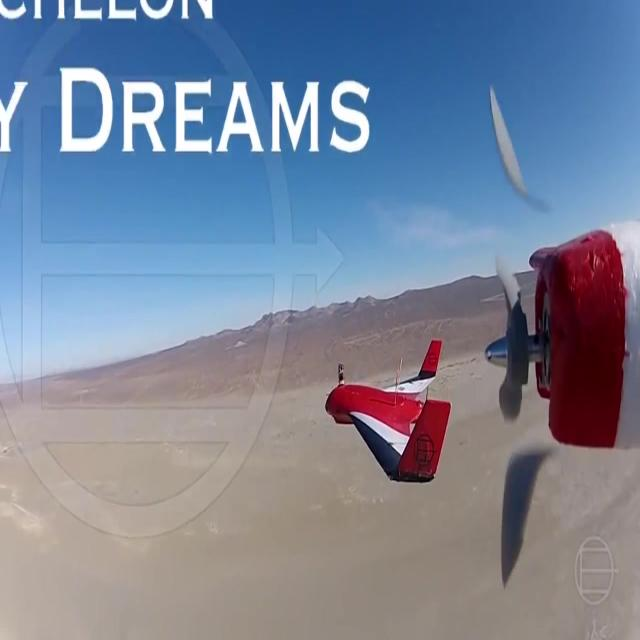iha: (322, 334, 453, 485)
